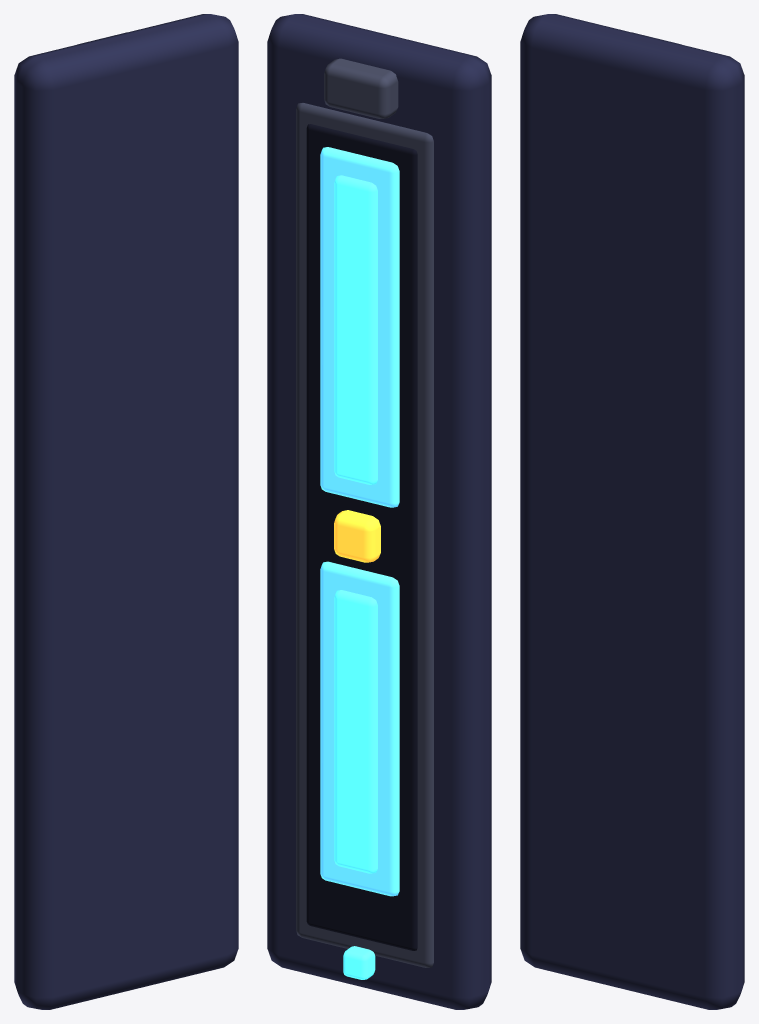
Rendered from prop.props_bridge.wall_light_cyan_v.glb.
3 renders of one model, left to right at view 1: azimuth 30°, elevation 25°; view 2: azimuth 150°, elevation 25°; view 3: azimuth 330°, elevation 25°, orthographic.
Visible parts, largest first — view 1: prop.props_bridge.wall_light_cyan_v; view 2: prop.props_bridge.wall_light_cyan_v; view 3: prop.props_bridge.wall_light_cyan_v.
Part boxes in pixels (bbox=[...]): prop.props_bridge.wall_light_cyan_v: bbox=[14, 14, 238, 1009]; prop.props_bridge.wall_light_cyan_v: bbox=[267, 14, 491, 1009]; prop.props_bridge.wall_light_cyan_v: bbox=[520, 14, 744, 1009].
Bounding box in the file's own units: 0.26 × 1.1 × 0.09.
